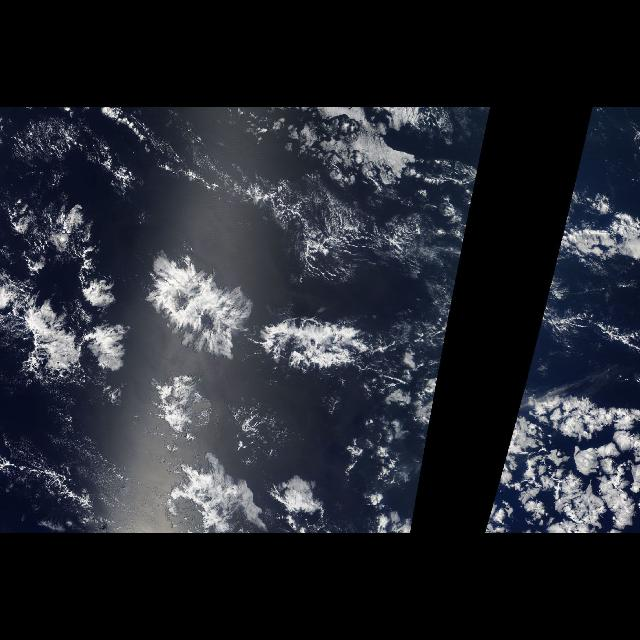Flower: (1, 242, 378, 526)
